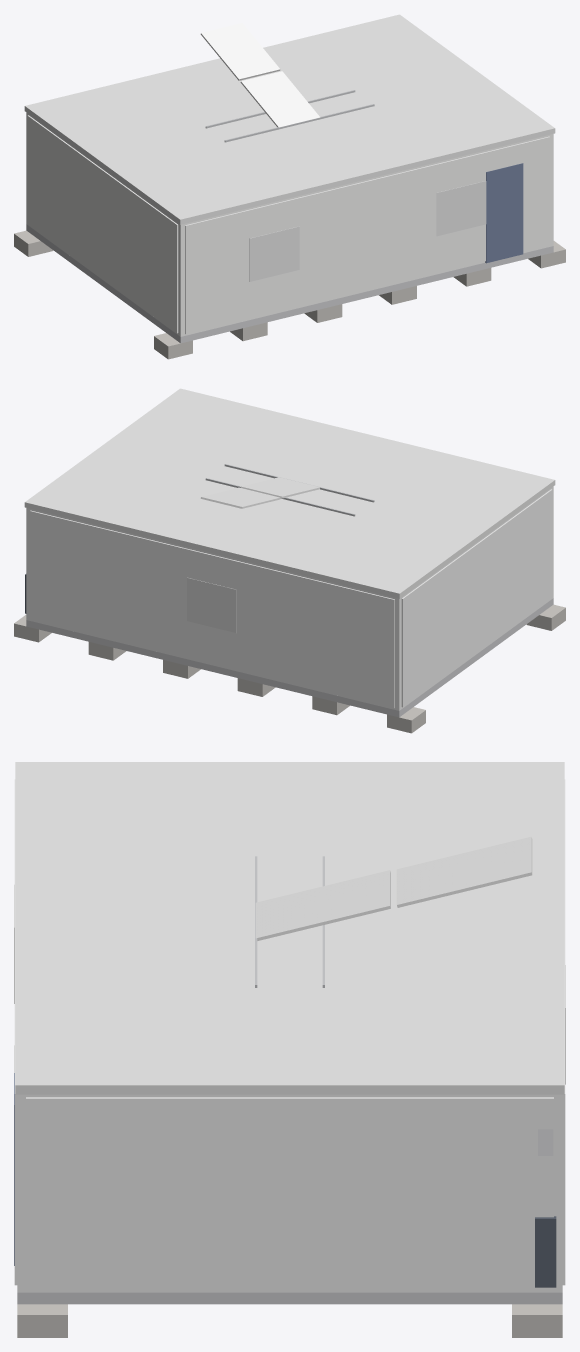
File: Studio-30-FullSolar-LOD0.glb
3 renders of one model, top to bottom at view 1: azimuth 30°, elevation 25°; view 2: azimuth 150°, elevation 25°; view 3: azimuth 270°, elevation 25°, orthographic. The views are drawn at different scales.
Visible parts, largest first — view 1: RoofMain, ExteriorPanelsStandard, SolarPanelArray, WindowsStandard, BaseFrame, FoundationBlocks, ExteriorShell, EntryDoor, SolarMountingHardware; view 2: RoofMain, ExteriorPanelsStandard, BaseFrame, FoundationBlocks, ExteriorShell, WindowsStandard, SolarPanelArray, SolarMountingHardware; view 3: RoofMain, ExteriorPanelsStandard, SolarPanelArray, ExteriorShell, BaseFrame, FoundationBlocks, SolarBattery.
Boxes of the visible parts, box(x1,y1,x2,y2) form: RoofMain: box(24, 14, 555, 224); ExteriorPanelsStandard: box(27, 115, 550, 334); SolarPanelArray: box(200, 23, 319, 127); WindowsStandard: box(249, 181, 486, 281); BaseFrame: box(26, 224, 553, 343); FoundationBlocks: box(14, 230, 565, 359); ExteriorShell: box(26, 112, 553, 336); EntryDoor: box(485, 163, 523, 263); SolarMountingHardware: box(205, 90, 374, 142); RoofMain: box(24, 388, 555, 598); ExteriorPanelsStandard: box(30, 489, 552, 708); BaseFrame: box(26, 598, 553, 717); FoundationBlocks: box(14, 604, 565, 733); ExteriorShell: box(26, 486, 553, 710); WindowsStandard: box(187, 577, 236, 633); SolarPanelArray: box(200, 477, 319, 508); SolarMountingHardware: box(205, 464, 374, 516); RoofMain: box(15, 762, 564, 1094); ExteriorPanelsStandard: box(14, 779, 565, 1289); SolarPanelArray: box(255, 836, 532, 940); ExteriorShell: box(17, 1094, 562, 1292); BaseFrame: box(17, 1292, 562, 1304); FoundationBlocks: box(17, 1304, 562, 1337); SolarBattery: box(535, 1216, 556, 1287).
Size of the model in its own units: 9.6 by 4.07 by 6.53.
